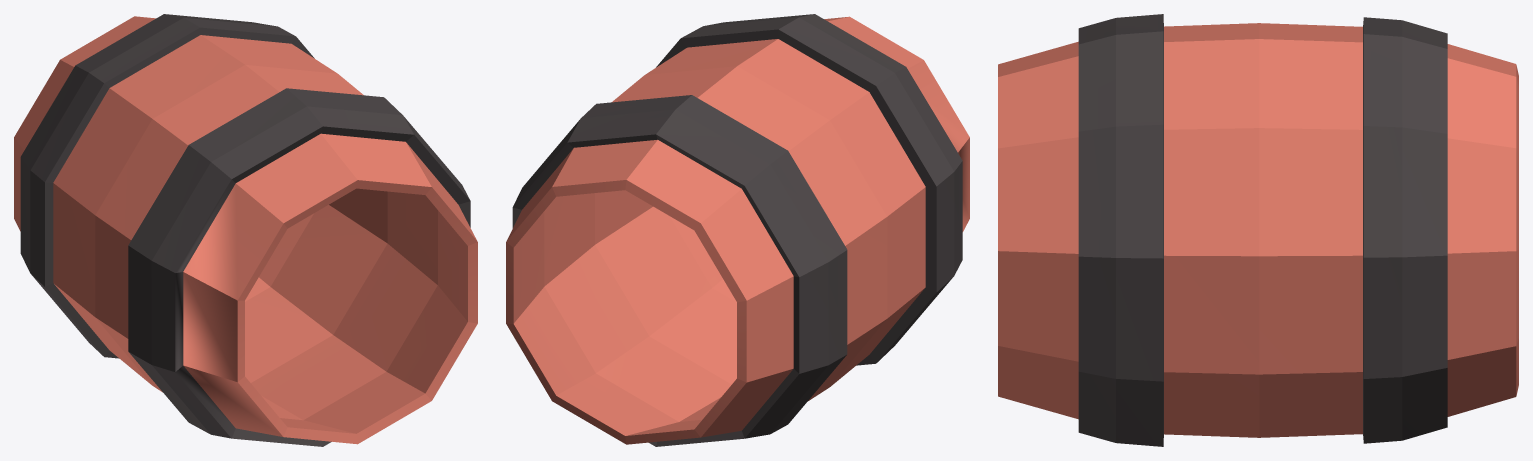
Rendered from SM_barrel.fbx.
3 views of the same model, side by side, from view 1: azimuth 30°, elevation 25°; view 2: azimuth 150°, elevation 25°; view 3: azimuth 270°, elevation 25° (orthographic). The views are drawn at different scales.
Parts seen in each view (by area): view 1: barrel; view 2: barrel; view 3: barrel.
Part boxes in pixels (box(x1,y1,x2,y2)): barrel: box(14, 14, 477, 446); barrel: box(506, 14, 969, 446); barrel: box(998, 14, 1518, 446).
Bounding box in the file's own units: 68.4 × 70.94 × 84.08.
